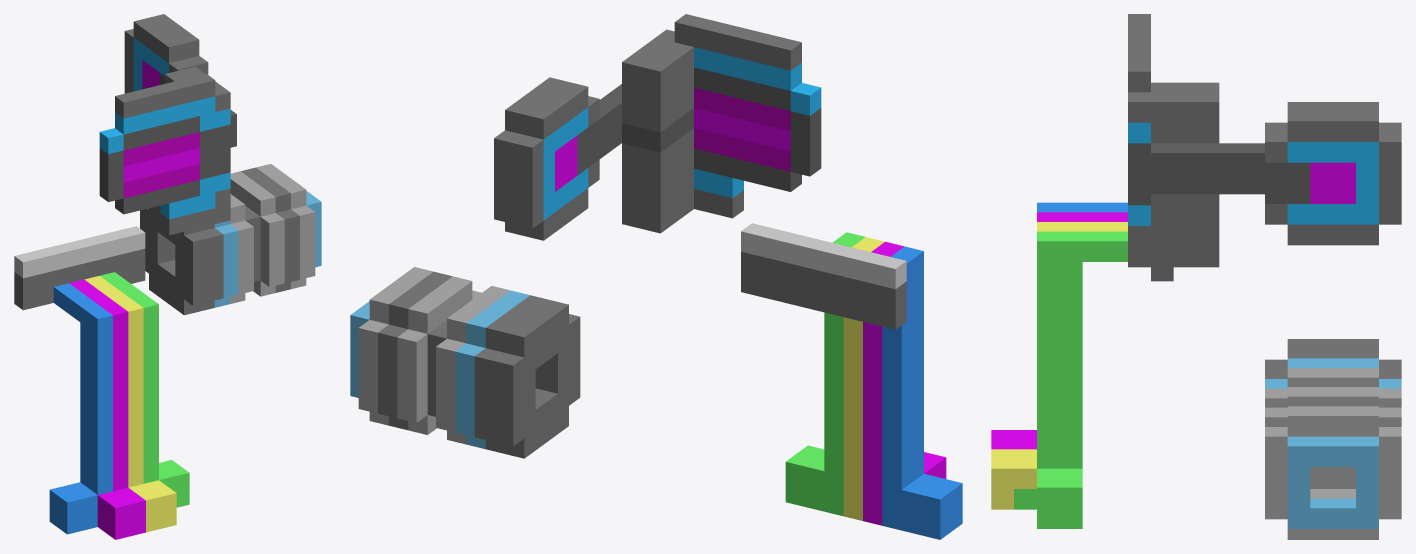
File: 60- cyborg.fbx
The picture shows the model from 3 angles, left to right: view 1: azimuth 30°, elevation 25°; view 2: azimuth 150°, elevation 25°; view 3: azimuth 270°, elevation 25°; orthographic projection. The views are drawn at different scales.
Visible parts, largest first — view 1: 216, 215, 217, 215.2, 216.1, 217.1, 215.1; view 2: 215, 216, 217, 216.1, 215.2, 217.1, 215.1; view 3: 215, 216, 217, 217.1, 215.2, 215.1.
Boxes of the visible parts, x1,y1,x2,y2 form: 216: (14, 226, 189, 539); 215: (99, 14, 236, 235); 217: (140, 164, 315, 315); 215.2: (99, 38, 230, 219); 216.1: (14, 248, 145, 310); 217.1: (214, 191, 321, 307); 215.1: (123, 60, 199, 182); 215: (494, 14, 821, 240); 216: (741, 223, 962, 539); 217: (358, 267, 580, 458); 216.1: (741, 251, 906, 329); 215.2: (543, 47, 821, 220); 217.1: (350, 290, 529, 449); 215.1: (555, 108, 790, 191); 215: (1128, 14, 1401, 267); 216: (991, 202, 1127, 528); 217: (1265, 339, 1401, 539); 217.1: (1265, 358, 1401, 528); 215.2: (1128, 122, 1378, 225); 215.1: (1310, 162, 1355, 203).
Bounding box in the file's own units: 230 × 240 × 180.
Materials: 7 (7 with a texture image).
